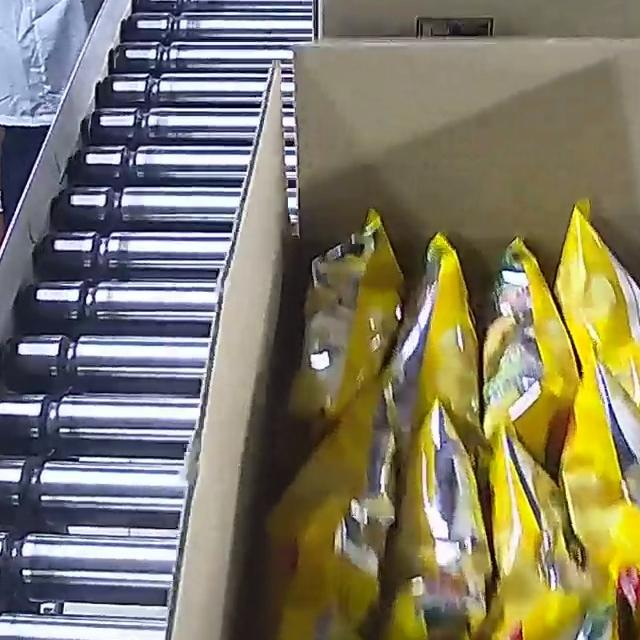salted: (236, 195, 640, 640)
